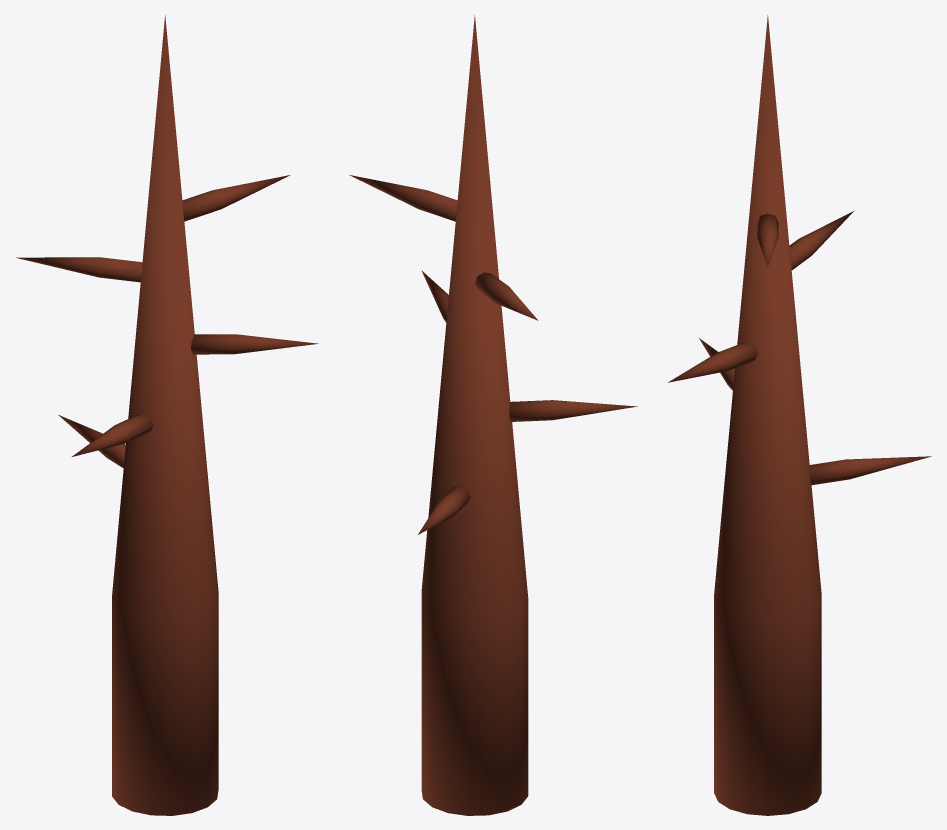
Rendered from low_poly_tree1-nzytg3o7.glb.
The picture shows the model from 3 angles, left to right: view 1: azimuth 30°, elevation 25°; view 2: azimuth 150°, elevation 25°; view 3: azimuth 270°, elevation 25°; orthographic projection.
Visible parts, largest first — view 1: Cylinder, Cylinder.004, Cylinder.002, Cylinder.001, Cylinder.005, Cylinder.003; view 2: Cylinder, Cylinder.005, Cylinder.001, Cylinder.004, Cylinder.003; view 3: Cylinder, Cylinder.003, Cylinder.002, Cylinder.004, Cylinder.001.
Part boxes in pixels (x1,y1,x2,y2): Cylinder: (112,15,218,815); Cylinder.004: (16,257,142,282); Cylinder.002: (191,334,318,354); Cylinder.001: (182,175,290,221); Cylinder.005: (72,413,153,456); Cylinder.003: (58,415,125,468); Cylinder: (421,15,528,815); Cylinder.005: (509,400,637,421); Cylinder.001: (349,175,457,221); Cylinder.004: (475,272,538,320); Cylinder.003: (418,485,470,534); Cylinder: (714,15,821,815); Cylinder.003: (809,456,931,485); Cylinder.002: (668,342,757,382); Cylinder.004: (789,211,853,270); Cylinder.001: (757,213,778,266).
Size of the model in its own units: 2.74 by 8 by 2.47.
